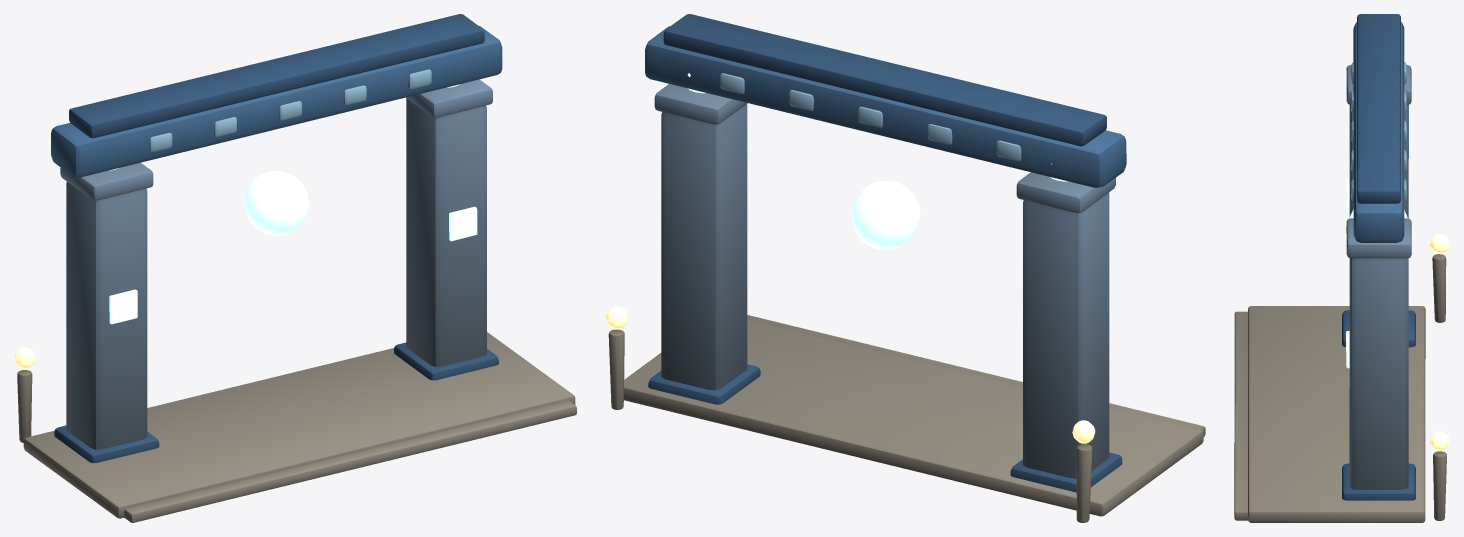
3 views of the same model, side by side, from view 1: azimuth 30°, elevation 25°; view 2: azimuth 150°, elevation 25°; view 3: azimuth 270°, elevation 25° (orthographic). The views are drawn at different scales.
Parts seen in each view (by area): view 1: gate_d8647f7b; view 2: gate_d8647f7b; view 3: gate_d8647f7b.
Part boxes in pixels (<box>): gate_d8647f7b: <box>14,14,576,522</box>; gate_d8647f7b: <box>605,14,1205,522</box>; gate_d8647f7b: <box>1234,14,1449,522</box>.
Size of the model in its own units: 5.8 by 4.17 by 2.55.
